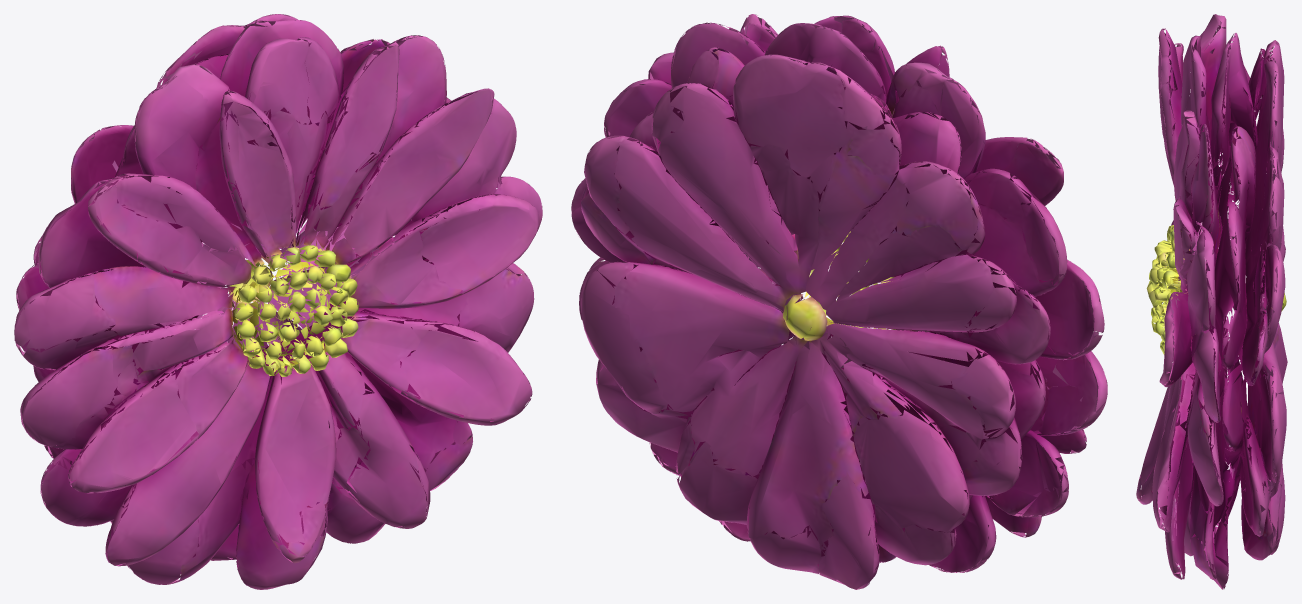
The model's file is magenta_gerbera.glb.
3 renders of one model, left to right at view 1: azimuth 30°, elevation 25°; view 2: azimuth 150°, elevation 25°; view 3: azimuth 270°, elevation 25°, orthographic. The views are drawn at different scales.
Visible parts, largest first — view 1: model; view 2: model; view 3: model.
Boxes of the visible parts, x1,y1,x2,y2 form: model: [14, 14, 542, 589]; model: [571, 14, 1107, 589]; model: [1136, 14, 1287, 589].
Size of the model in its own units: 1.9 by 1.87 by 0.4987.
Materials: 1 (1 with a texture image).
